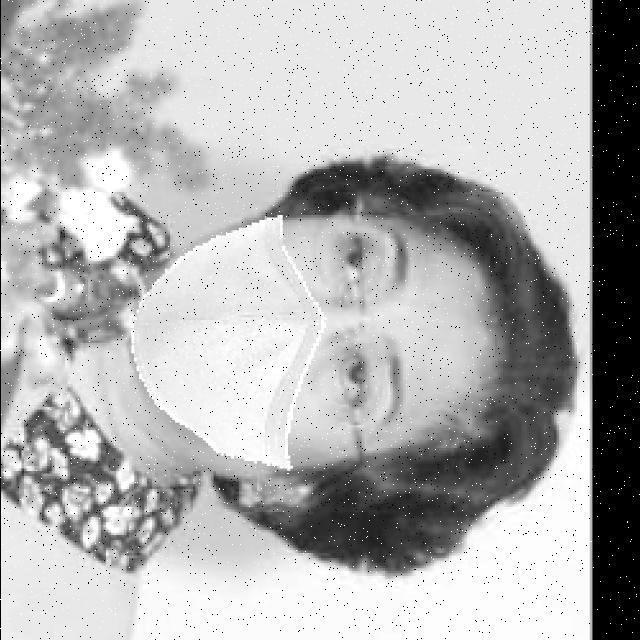no_gloves: (328, 133, 572, 540)
